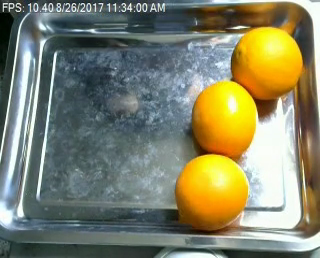Orange: (175, 152, 249, 228), (231, 26, 303, 100), (191, 80, 257, 156)
